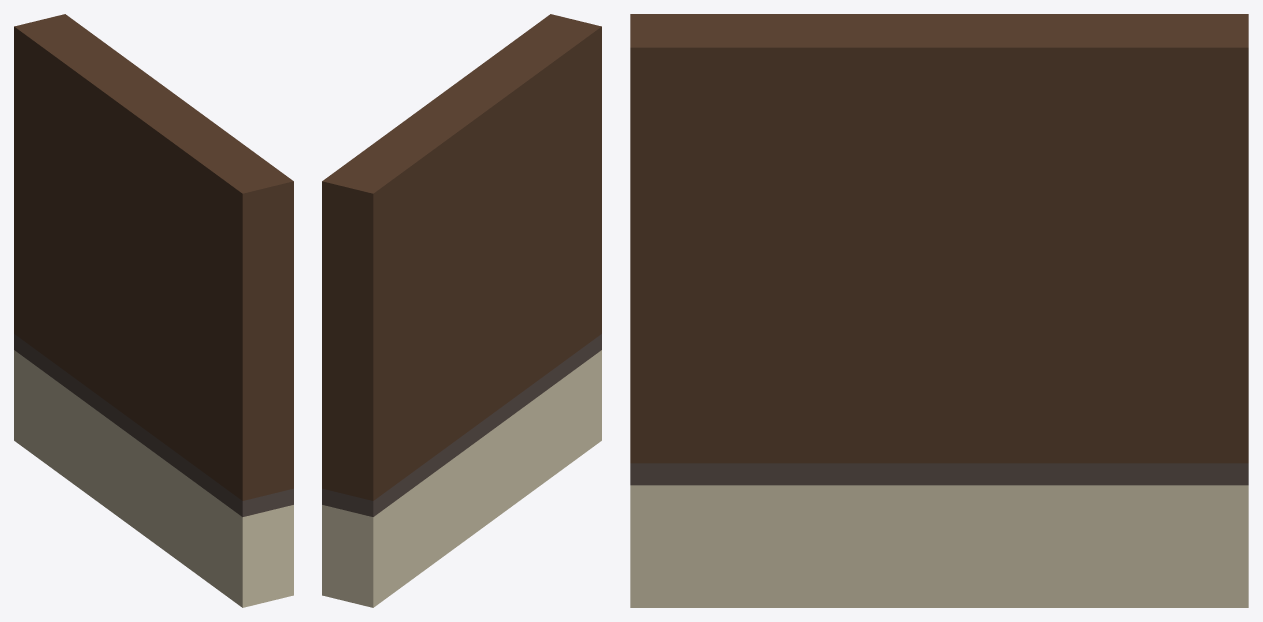
Rendered from ParedDefinitiva.fbx.
The picture shows the model from 3 angles, left to right: view 1: azimuth 30°, elevation 25°; view 2: azimuth 150°, elevation 25°; view 3: azimuth 270°, elevation 25°; orthographic projection. The views are drawn at different scales.
Visible parts, largest first — view 1: Cube.002; view 2: Cube.002; view 3: Cube.002.
Boxes of the visible parts, box(x1,y1,x2,y2) form: Cube.002: box(14, 14, 293, 607); Cube.002: box(322, 14, 601, 607); Cube.002: box(630, 14, 1248, 607).
Bounding box in the file's own units: 55.65 × 430 × 430.
Materials: 1 (1 with a texture image).
